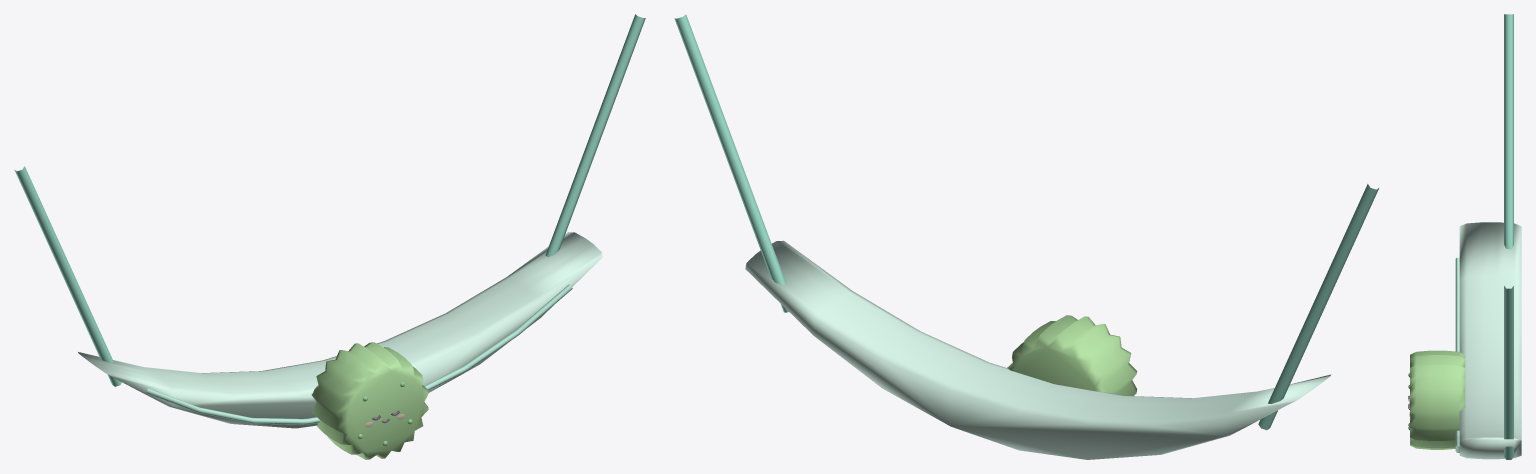
Rendered from decor_1_mint.glb.
The picture shows the model from 3 angles, left to right: view 1: azimuth 30°, elevation 25°; view 2: azimuth 150°, elevation 25°; view 3: azimuth 270°, elevation 25°; orthographic projection. The views are drawn at different scales.
Visible parts, largest first — view 1: decor_1_mint; view 2: decor_1_mint; view 3: decor_1_mint.
Boxes of the visible parts, x1,y1,x2,y2 form: decor_1_mint: (14, 14, 645, 459); decor_1_mint: (674, 14, 1378, 459); decor_1_mint: (1408, 14, 1521, 459).
Size of the model in its own units: 19.24 by 9.71 by 3.36.
